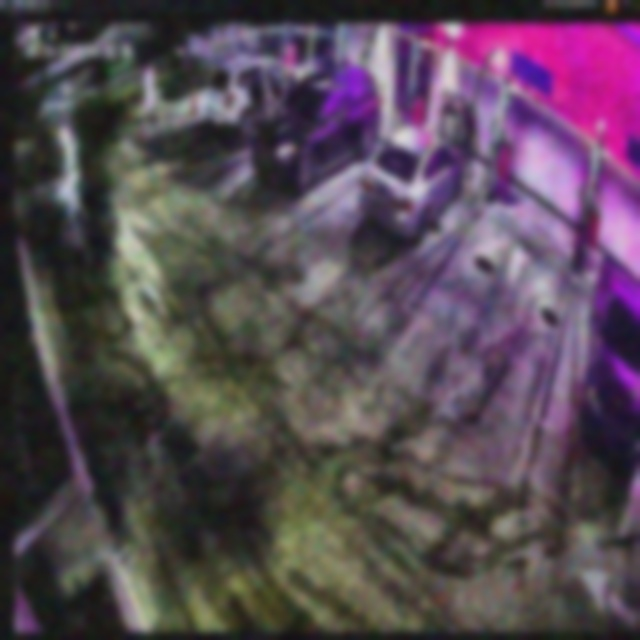Car: (251, 65, 382, 185), (359, 125, 463, 246)
